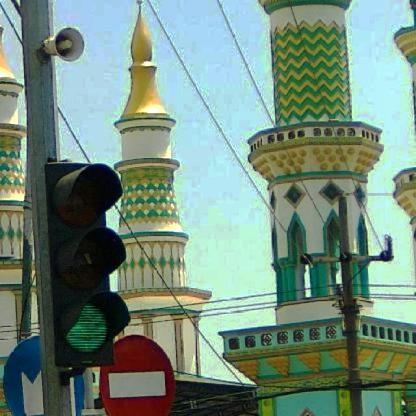Traffic Light -Green-: (53, 162, 126, 368)
